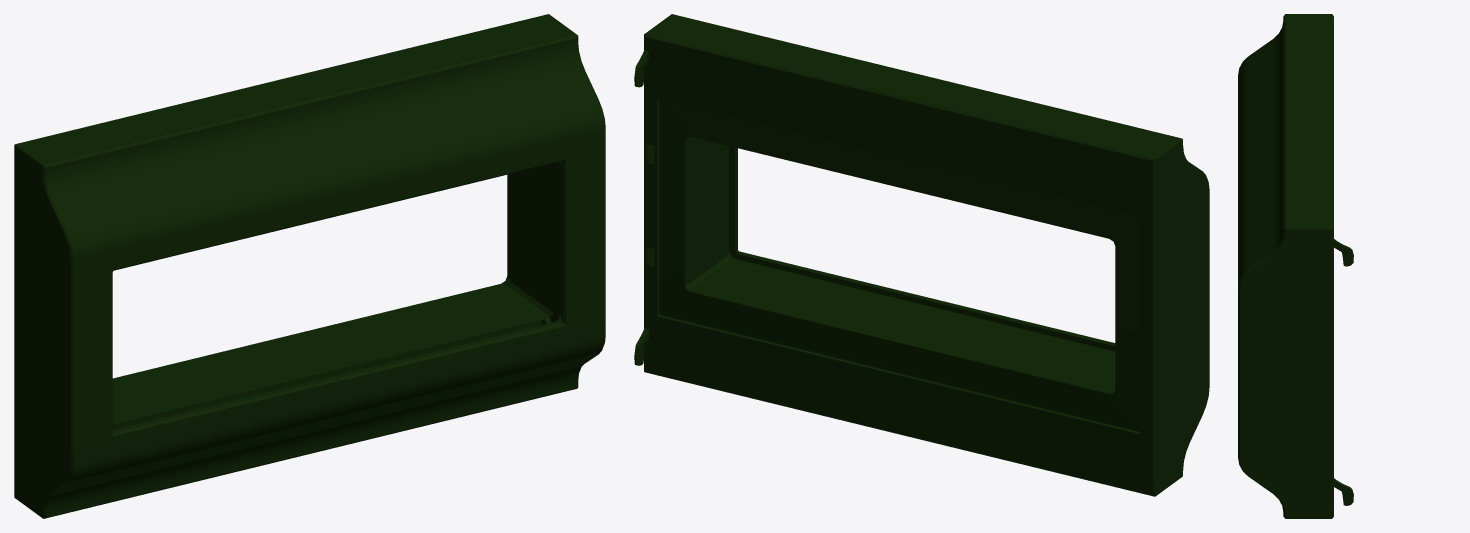
Rendered from Microwave_1_doormesh_1_7.obj.
The picture shows the model from 3 angles, left to right: view 1: azimuth 30°, elevation 25°; view 2: azimuth 150°, elevation 25°; view 3: azimuth 270°, elevation 25°; orthographic projection. The views are drawn at different scales.
Bounding box in the file's own units: 0.4848 × 0.3488 × 0.2079.
